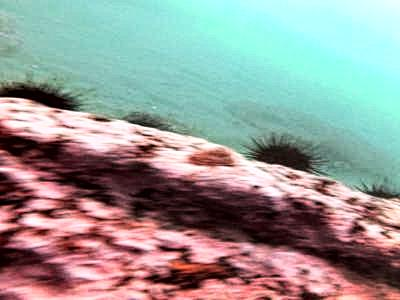urchin: (241, 132, 331, 177), (2, 78, 74, 111)
